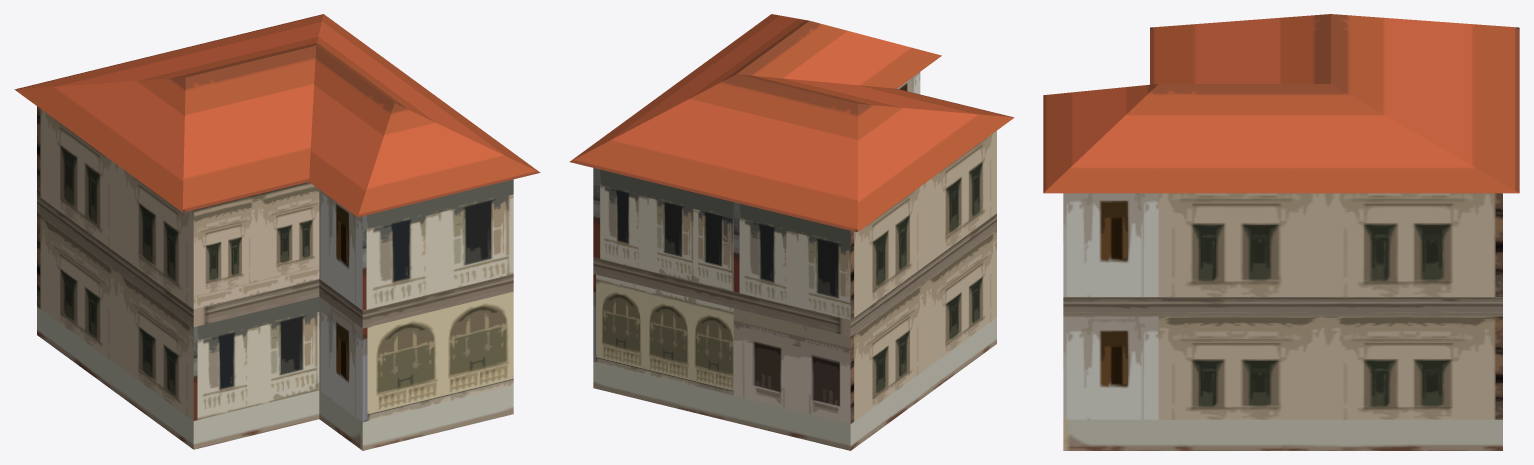
The model's file is SM_Building_ColonialHouse_02.fbx.
3 views of the same model, side by side, from view 1: azimuth 30°, elevation 25°; view 2: azimuth 150°, elevation 25°; view 3: azimuth 270°, elevation 25° (orthographic). The views are drawn at different scales.
Parts seen in each view (by area): view 1: SM_Building_ColonialHouse_02; view 2: SM_Building_ColonialHouse_02; view 3: SM_Building_ColonialHouse_02.
Boxes of the visible parts, x1,y1,x2,y2 form: SM_Building_ColonialHouse_02: [14, 14, 540, 450]; SM_Building_ColonialHouse_02: [570, 14, 1014, 450]; SM_Building_ColonialHouse_02: [1043, 14, 1519, 450].
Size of the model in its own units: 12.32 by 11.33 by 14.96.
